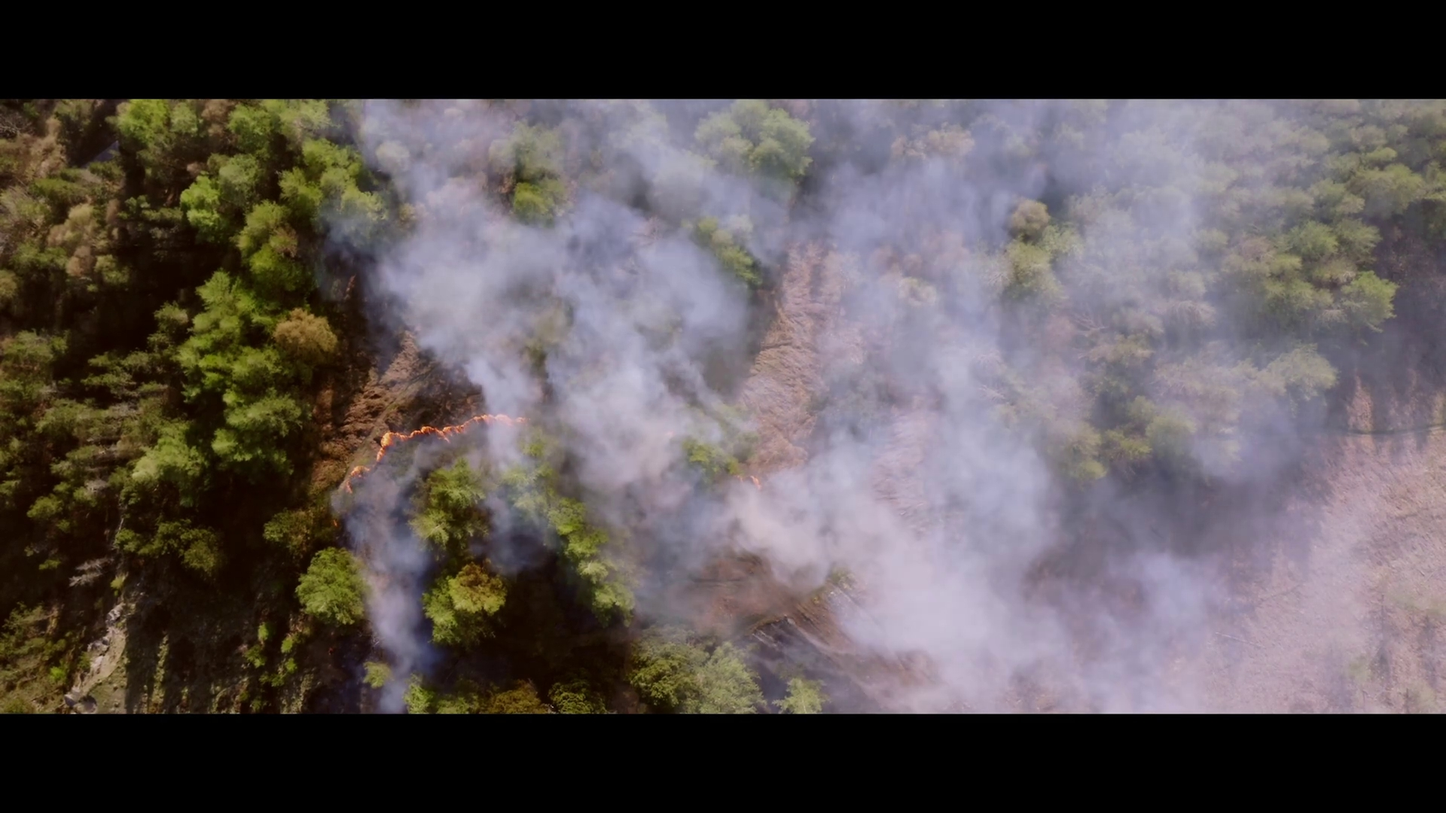forest_fire: (375, 414, 526, 464), (343, 464, 374, 492)
